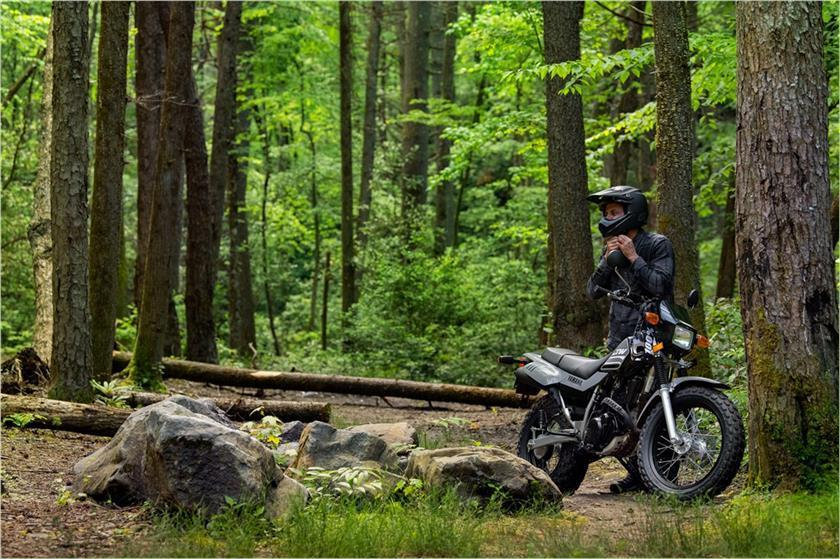motorbike: (498, 249, 748, 502)
